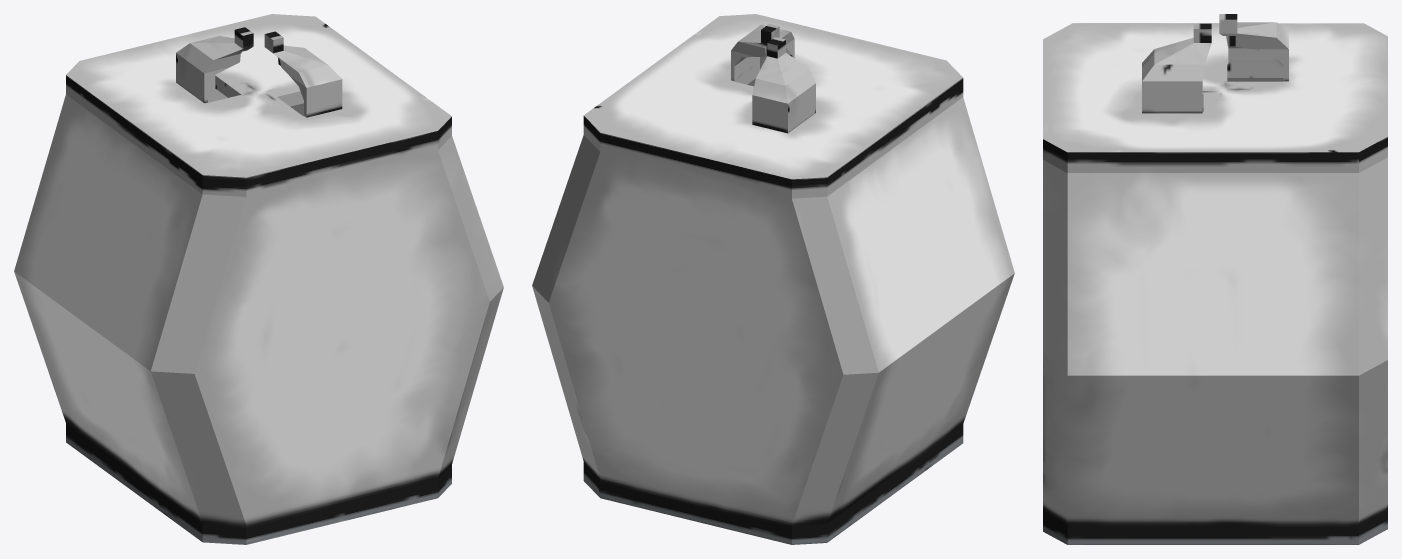
File: Gondola.fbx
3 views of the same model, side by side, from view 1: azimuth 30°, elevation 25°; view 2: azimuth 150°, elevation 25°; view 3: azimuth 270°, elevation 25° (orthographic). The views are drawn at different scales.
Parts seen in each view (by area): view 1: Cube; view 2: Cube; view 3: Cube.
Part boxes in pixels (x1,y1,x2,y2): Cube: (14, 14, 503, 544); Cube: (532, 14, 1014, 544); Cube: (1043, 14, 1387, 544).
Size of the model in its own units: 562 by 657 by 447.
1 material, 1 textured.
